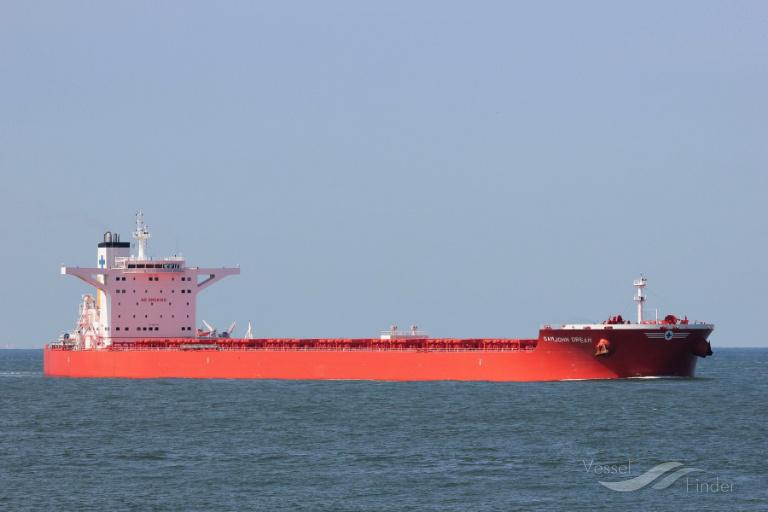OCR: (540, 333, 600, 348)
